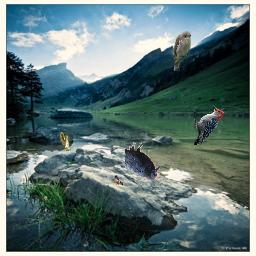Crow: (125, 142, 160, 182)
Cuckoo: (173, 31, 191, 71), (60, 132, 71, 151)
Swallow: (114, 175, 125, 185)
Woodpecker: (194, 105, 225, 145)
